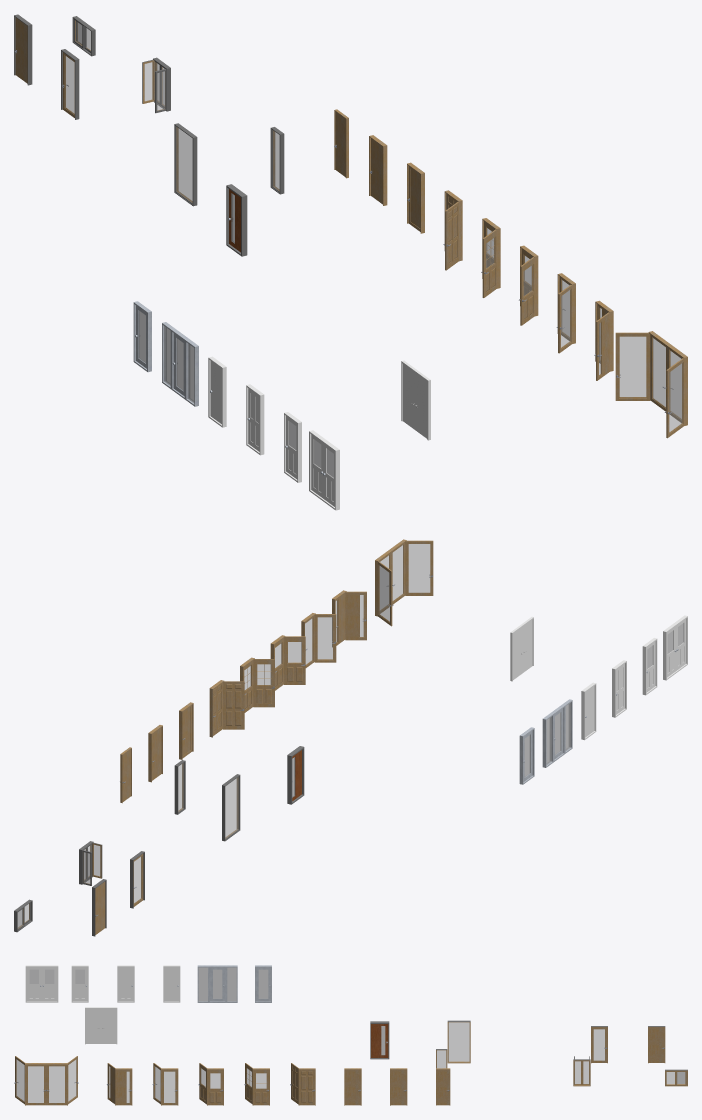
The model's file is single-panel-door-36x84.glb.
3 views of the same model, one above another, from view 1: azimuth 30°, elevation 25°; view 2: azimuth 150°, elevation 25°; view 3: azimuth 270°, elevation 25° (orthographic). The views are drawn at different scales.
Visible parts, largest first — view 1: Geom3D (×19); view 2: Geom3D (×14); view 3: Geom3D (×37).
Boxes of the visible parts, x1,y1,x2,y2 form: Geom3D (×19): (15, 17, 682, 510); Geom3D (×14): (223, 540, 687, 838); Geom3D (×37): (16, 965, 664, 1105).
Bounding box in the file's own units: 13.15 × 2.44 × 35.87.
Materials: 11 (5 with a texture image).
